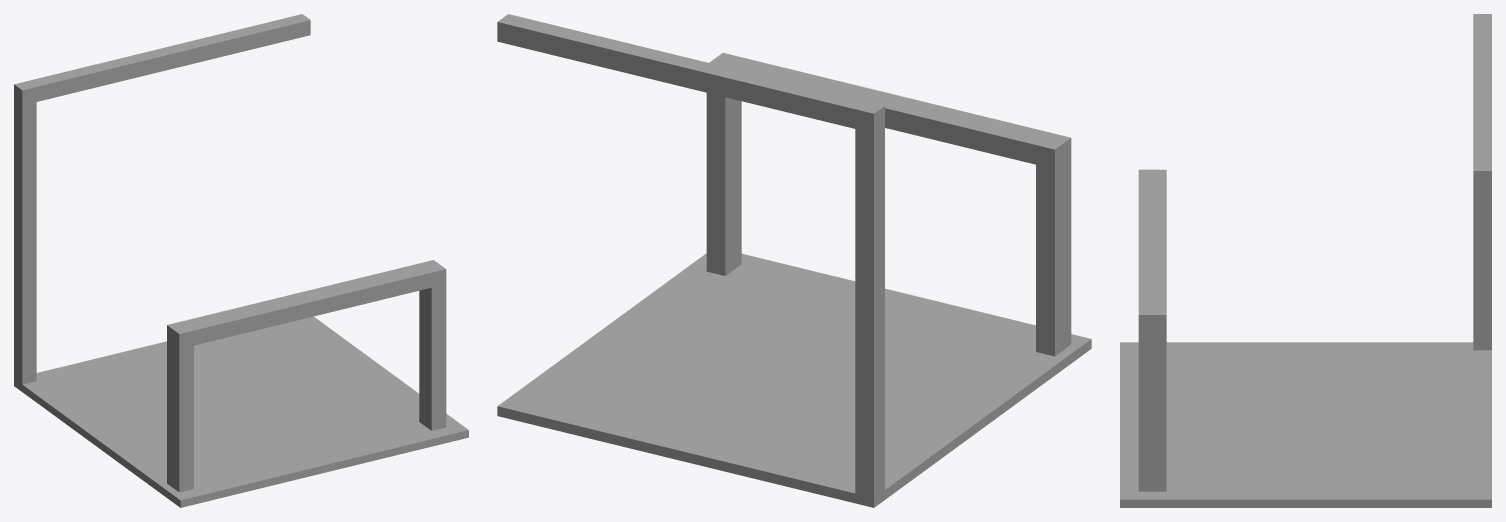
The model's file is ruins-zone.obj.
The picture shows the model from 3 angles, left to right: view 1: azimuth 30°, elevation 25°; view 2: azimuth 150°, elevation 25°; view 3: azimuth 270°, elevation 25°; orthographic projection. The views are drawn at different scales.
Parts seen in each view (by area): view 1: ruins-zone; view 2: ruins-zone; view 3: ruins-zone.
Boxes of the visible parts, x1=… form: ruins-zone: x1=14, y1=14, x2=468, y2=507; ruins-zone: x1=497, y1=14, x2=1091, y2=507; ruins-zone: x1=1120, y1=14, x2=1491, y2=507.
Size of the model in its own units: 40 by 40 by 40.
Materials: 1 (1 with a texture image).
